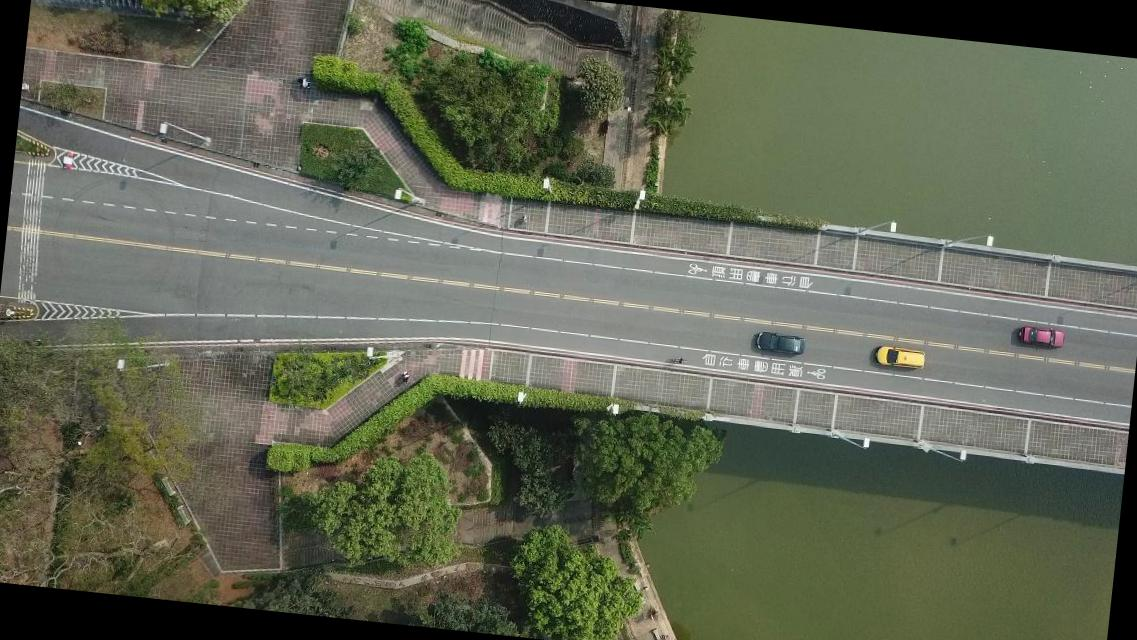vehicle: (872, 344, 924, 369), (754, 331, 804, 356), (1016, 325, 1064, 350)
